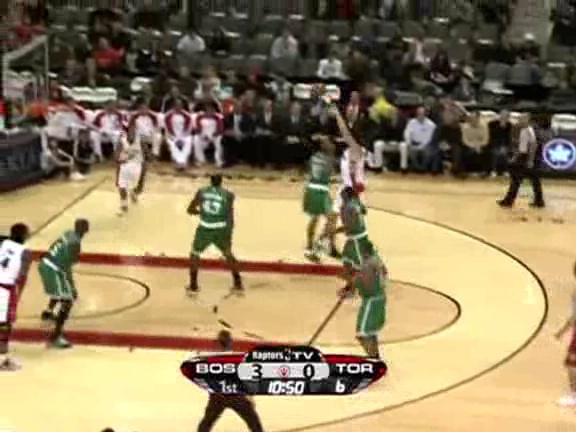person: (340, 192, 374, 273), (339, 192, 373, 273), (341, 192, 375, 273), (340, 191, 374, 272), (340, 193, 374, 274)
target_negative: (37, 124, 475, 395), (245, 252, 526, 380), (270, 141, 441, 250), (16, 310, 233, 374), (319, 299, 422, 388), (496, 162, 552, 264)
